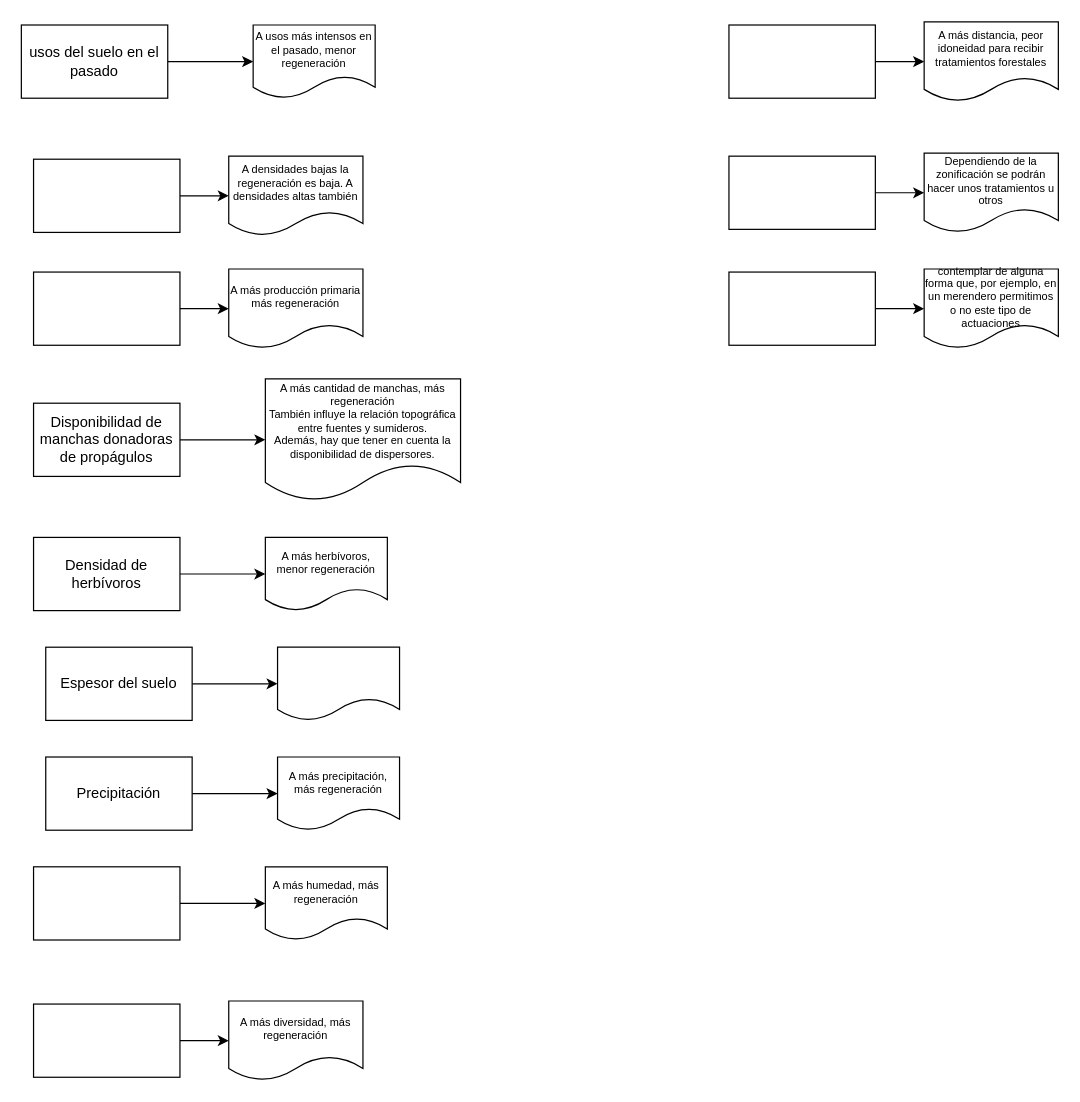
This 1080x1102 diagram has some shape labels left out. Here are the shapes that lost their labels. From the top down, the centre of each, then its label:
At [801,61]: "Distancia a vías de comunicación".
At [106,195]: "Densidad del pinar".
At [801,192]: "Zonificación del territorio".
At [106,308]: "Producción primaria".
At [801,308]: "Priorización en función del tipo de uso".
At [338,683]: "A más profundidad más regeneración".
At [106,903]: "mapa de humedad del suelo. esto sería ideal de la muerte".
At [106,1040]: "Diversidad biológica".
